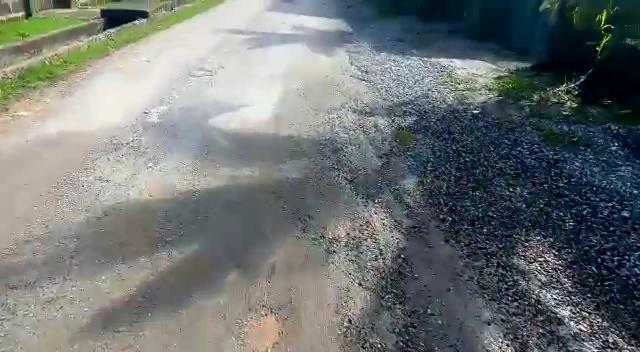pothole: (238, 307, 286, 352)
